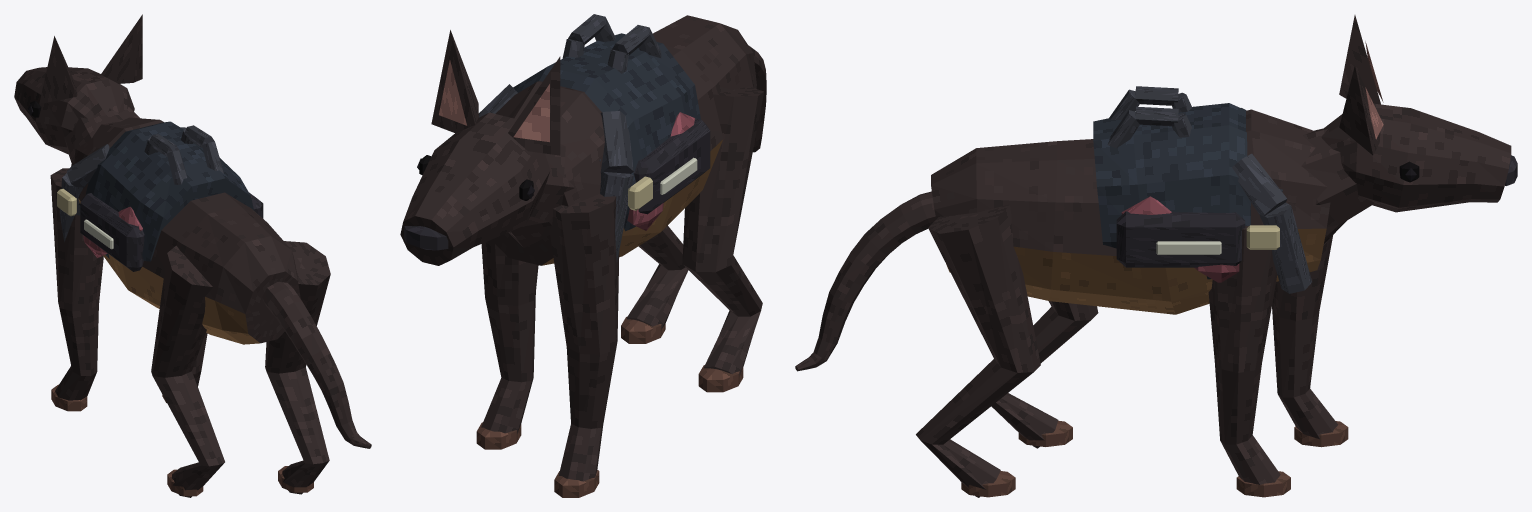
The model's file is mon_dog_zombie_cop.glb.
The picture shows the model from 3 angles, left to right: view 1: azimuth 30°, elevation 25°; view 2: azimuth 150°, elevation 25°; view 3: azimuth 270°, elevation 25°; orthographic projection. The views are drawn at different scales.
Visible parts, largest first — view 1: closed_body; view 2: closed_body; view 3: closed_body.
Boxes of the visible parts, left/top/right/bottom form: closed_body: left=14, top=14, right=371, bottom=497; closed_body: left=400, top=14, right=766, bottom=497; closed_body: left=795, top=15, right=1517, bottom=497.
Size of the model in its own units: 0.3497 by 0.8144 by 1.23.
Materials: 1 (1 with a texture image).
